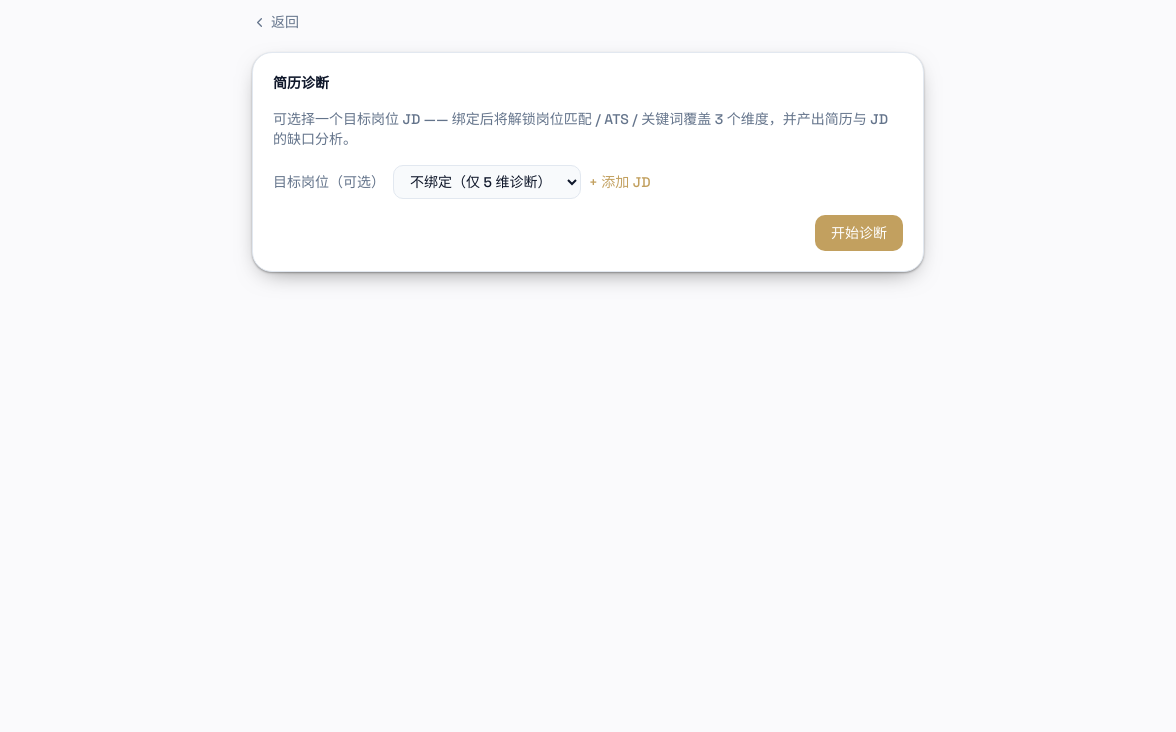
Scenario: ResumeReview › shows gap card when review returns gap
Click the button "开始诊断": coordinates (859, 233) [815, 215, 903, 251]
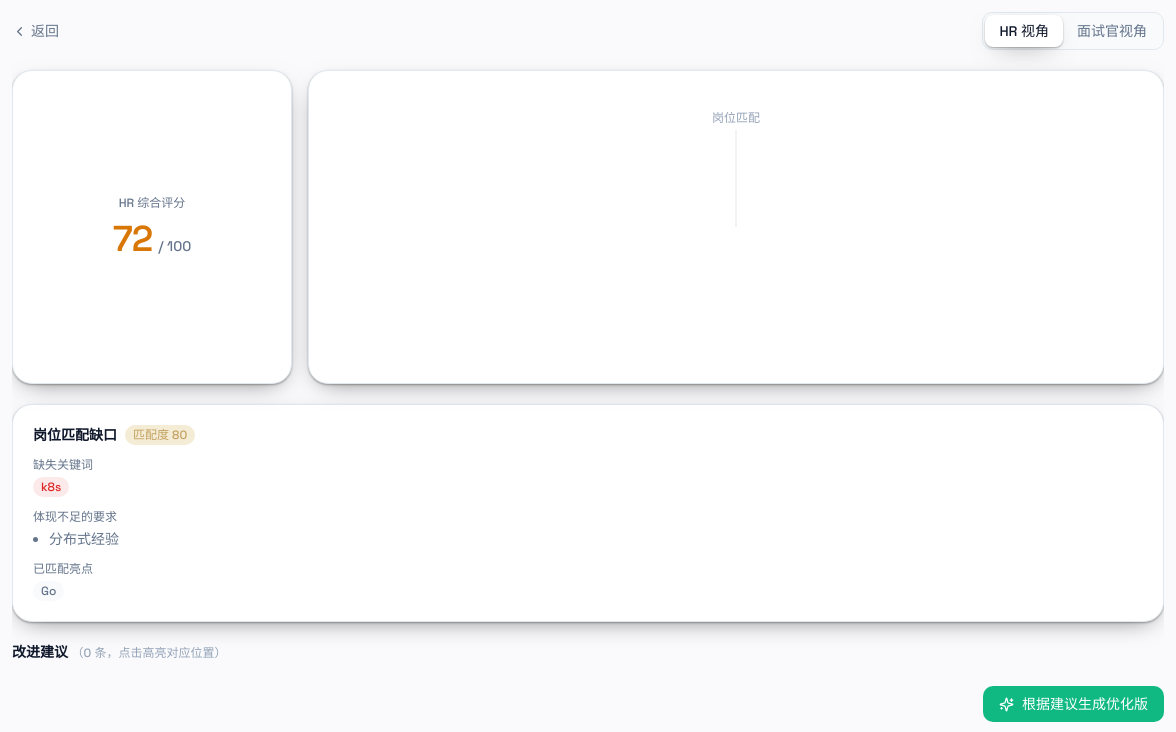
Check: the text "k8s" is shown, box [33, 477, 69, 497]
